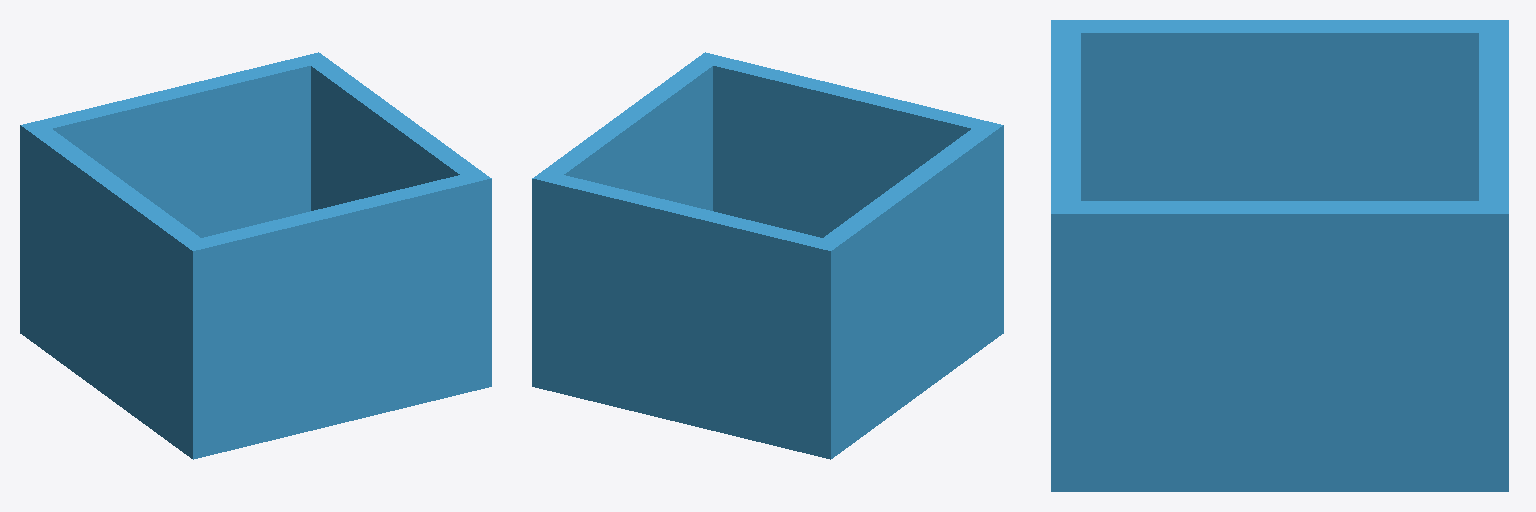
The robot description file, URDF, robot "cupB":
<?xml version="1.0" ?>
<robot name="cupB">
    <link name="cupB_base">
        <collision>
            <origin rpy="0 0 0" xyz="0 0 0.0025" />
            <geometry>
                <box size="0.07 0.07 0.005" />
            </geometry>
        </collision>
        <visual>
            <origin rpy="0 0 0" xyz="0 0 0.0025" />
            <geometry>
                <box size="0.07 0.07 0.005" />
            </geometry>
        </visual>
        <inertial>
            <origin xyz="0 0 0.0025" rpy="0 0 0" />
            <mass value="0.01" />
            <inertia ixx="0.0001" iyy="0.0001" izz="0.0001" ixy="0" ixz="0" iyz="0" />
        </inertial>
    </link>
    <joint name="cupB_joint" type="fixed">
        <origin rpy="0 0 0" xyz="0 0 0.025" />
        <parent link="cupB_base" />
        <child link="cupB_wall" />
    </joint>
    <link name="cupB_wall">
        <collision>
            <origin rpy="0 0 0.0" xyz="0.035 0 0" />
            <geometry>
                <box size="0.005 0.07500000000000001 0.05" />
            </geometry>
        </collision>
        <collision>
            <origin rpy="0 0 1.5707963267948966" xyz="0 0.035 0" />
            <geometry>
                <box size="0.005 0.07500000000000001 0.05" />
            </geometry>
        </collision>
        <collision>
            <origin rpy="0 0 3.141592653589793" xyz="-0.035 0 0" />
            <geometry>
                <box size="0.005 0.07500000000000001 0.05" />
            </geometry>
        </collision>
        <collision>
            <origin rpy="0 0 4.71238898038469" xyz="0 -0.035 0" />
            <geometry>
                <box size="0.005 0.07500000000000001 0.05" />
            </geometry>
        </collision>
        <visual>
            <origin rpy="0 0 0.0" xyz="0.035 0 0" />
            <geometry>
                <box size="0.005 0.07500000000000001 0.05" />
            </geometry>
        </visual>
        <visual>
            <origin rpy="0 0 1.5707963267948966" xyz="0 0.035 0" />
            <geometry>
                <box size="0.005 0.07500000000000001 0.05" />
            </geometry>
        </visual>
        <visual>
            <origin rpy="0 0 3.141592653589793" xyz="-0.035 0 0" />
            <geometry>
                <box size="0.005 0.07500000000000001 0.05" />
            </geometry>
        </visual>
        <visual>
            <origin rpy="0 0 4.71238898038469" xyz="0 -0.035 0" />
            <geometry>
                <box size="0.005 0.07500000000000001 0.05" />
            </geometry>
        </visual>
        <inertial>
            <origin xyz="0 0 0.0025" rpy="0 0 0" />
            <mass value="0.04" />
            <inertia ixx="0.0001" iyy="0.0001" izz="0.0001" ixy="0" ixz="0" iyz="0" />
        </inertial>
    </link>
</robot>

--- What the picture shows (computed from the rendered views, not written in the file) ---
The picture shows the robot from 3 angles, left to right: view 1: azimuth 30°, elevation 25°; view 2: azimuth 150°, elevation 25°; view 3: azimuth 270°, elevation 25°; orthographic projection.
Robot: cupB — 2 links, 1 joints (1 fixed); root link cupB_base; default pose: every joint at zero.
Links seen in each view (by area): view 1: cupB_wall; view 2: cupB_wall; view 3: cupB_wall.
Boxes of the visible links, left/top/right/bottom form: cupB_wall: left=20, top=52, right=491, bottom=459; cupB_wall: left=532, top=52, right=1003, bottom=459; cupB_wall: left=1051, top=20, right=1508, bottom=491.
Size in the robot's own frame: 0.075 by 0.075 by 0.05 metres.
Geometry: primitives only (box / cylinder / sphere), no mesh files.